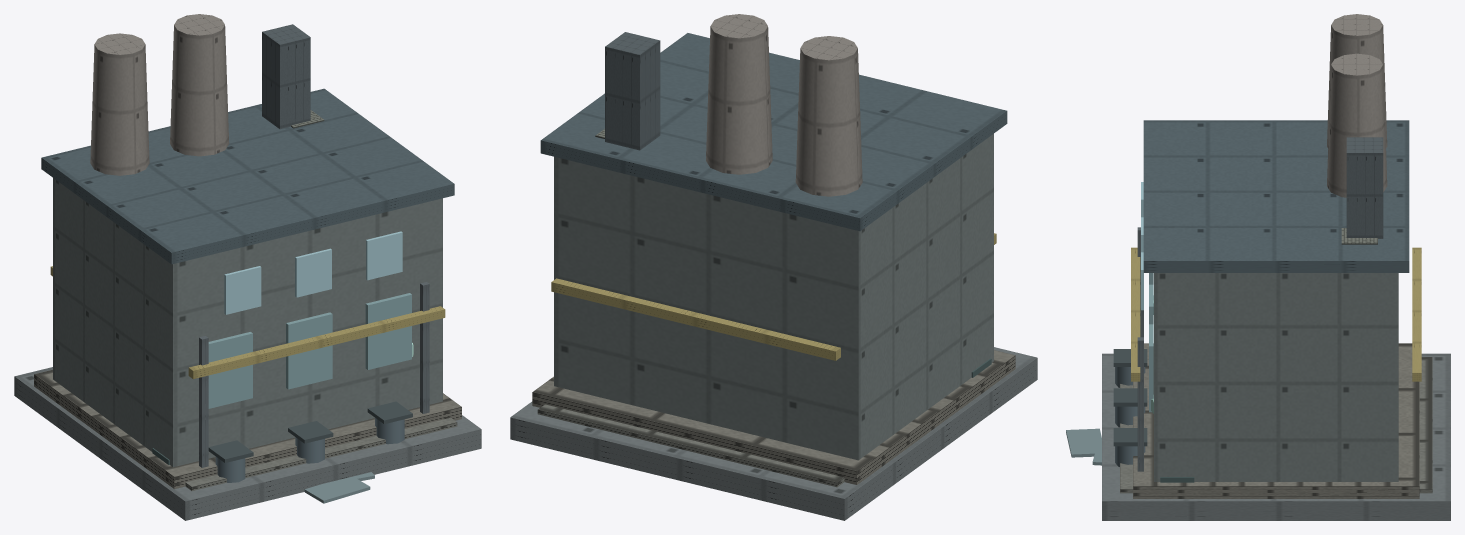
File: procedural_powerplant@6.glb
3 renders of one model, left to right at view 1: azimuth 30°, elevation 25°; view 2: azimuth 150°, elevation 25°; view 3: azimuth 270°, elevation 25°, orthographic. The views are drawn at different scales.
Parts seen in each view (by area): view 1: part_1, part_3, part_4, part_29, part_2, part_0, part_30, part_35, part_26, part_31, part_33, part_32 (+9 smaller); view 2: part_1, part_3, part_4, part_29, part_0, part_30, part_34, part_26; view 3: part_1, part_3, part_29, part_0, part_4, part_30, part_26, part_34, part_35, part_28, part_13, part_2 (+2 smaller).
Boxes of the visible parts, <box> form: part_1: <box>53,178,442,467</box>; part_3: <box>41,88,454,264</box>; part_4: <box>90,14,229,175</box>; part_29: <box>14,367,481,520</box>; part_2: <box>208,293,411,408</box>; part_0: <box>34,369,461,489</box>; part_30: <box>262,24,310,129</box>; part_35: <box>188,306,445,379</box>; part_26: <box>185,417,457,490</box>; part_31: <box>224,266,261,314</box>; part_33: <box>366,231,402,280</box>; part_32: <box>295,248,331,297</box>; part_1: <box>554,134,993,460</box>; part_3: <box>540,33,1007,231</box>; part_4: <box>706,14,862,196</box>; part_29: <box>510,347,1037,520</box>; part_0: <box>532,350,1015,484</box>; part_30: <box>605,32,660,150</box>; part_34: <box>551,278,840,360</box>; part_26: <box>537,404,844,487</box>; part_1: <box>1154,273,1398,481</box>; part_3: <box>1143,120,1409,272</box>; part_29: <box>1102,353,1450,520</box>; part_0: <box>1133,343,1419,498</box>; part_4: <box>1327,14,1387,197</box>; part_30: <box>1346,137,1383,238</box>; part_26: <box>1120,357,1432,493</box>; part_34: <box>1412,247,1421,381</box>; part_35: <box>1131,247,1140,381</box>; part_28: <box>1137,337,1143,471</box>; part_13: <box>1066,428,1101,457</box>; part_2: <box>1149,273,1153,412</box>.
Bounding box in the file's own units: 6.7 × 8.01 × 7.39.
Materials: 20 (10 with a texture image).
